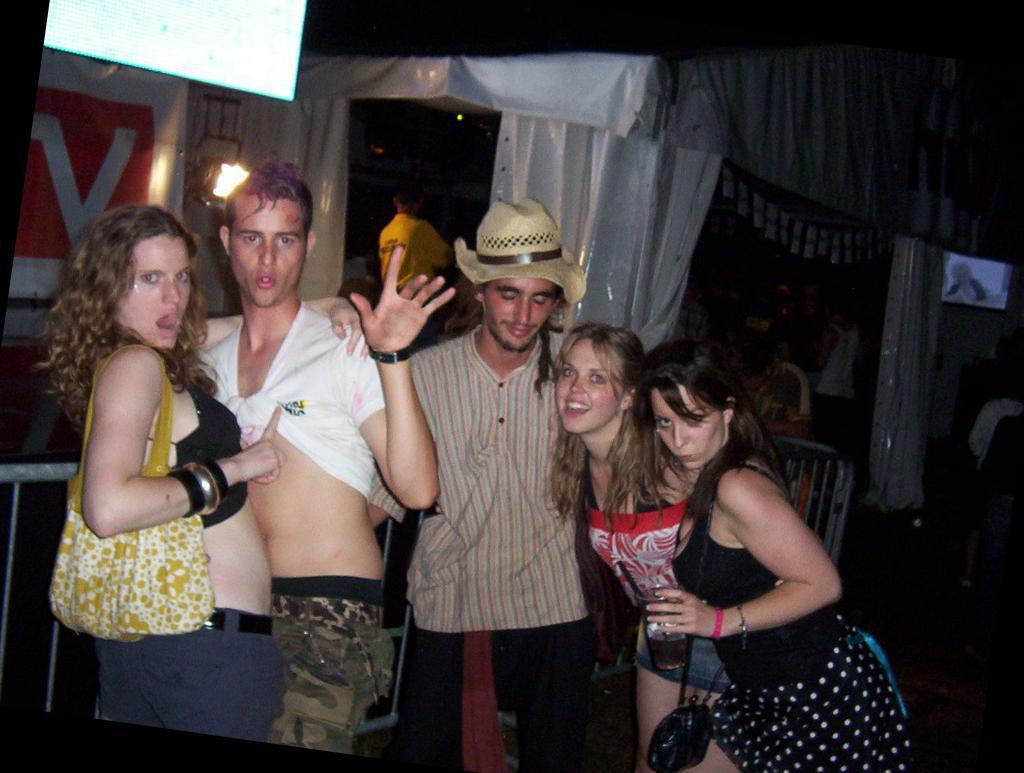Drunk: (234, 197, 303, 302), (129, 237, 192, 352), (652, 387, 718, 465), (559, 340, 616, 429), (489, 279, 548, 352)
